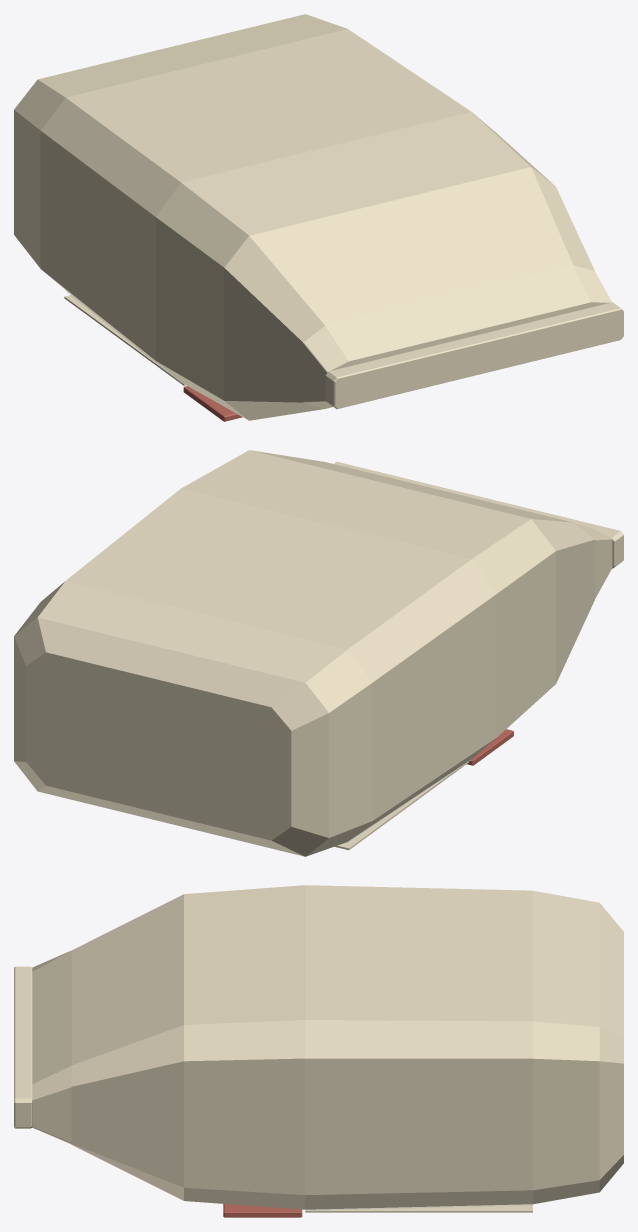
Rendered from quinoa.glb.
3 views of the same model, one above another, from view 1: azimuth 30°, elevation 25°; view 2: azimuth 150°, elevation 25°; view 3: azimuth 270°, elevation 25° (orthographic). The views are drawn at different scales.
Visible parts, largest first — view 1: quinoa; view 2: quinoa; view 3: quinoa.
Part boxes in pixels (box(x1,y1,x2,y2)): quinoa: box(14, 14, 623, 421); quinoa: box(14, 450, 623, 856); quinoa: box(14, 885, 623, 1217).
Size of the model in its own units: 0.1236 by 0.0721 by 0.201.
